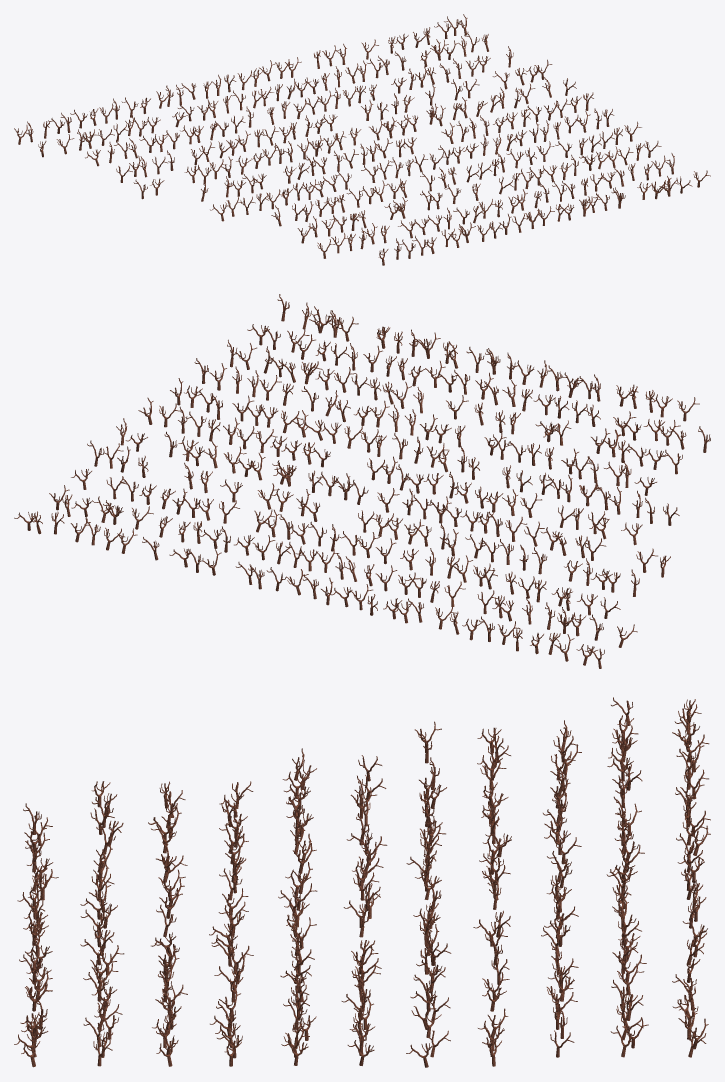
The model's file is orchard_trunks.dae.
3 renders of one model, top to bottom at view 1: azimuth 30°, elevation 25°; view 2: azimuth 150°, elevation 25°; view 3: azimuth 270°, elevation 25°, orthographic. The views are drawn at different scales.
Parts seen in each view (by area): view 1: Tree_lp_11.001; view 2: Tree_lp_11.001; view 3: Tree_lp_11.001.
Boxes of the visible parts, left/top/right/bottom form: Tree_lp_11.001: left=14, top=14, right=710, bottom=265; Tree_lp_11.001: left=14, top=294, right=710, bottom=668; Tree_lp_11.001: left=14, top=697, right=710, bottom=1067.
Bounding box in the file's own units: 38.33 × 31.95 × 1.67.
Materials: 1 (1 with a texture image).
